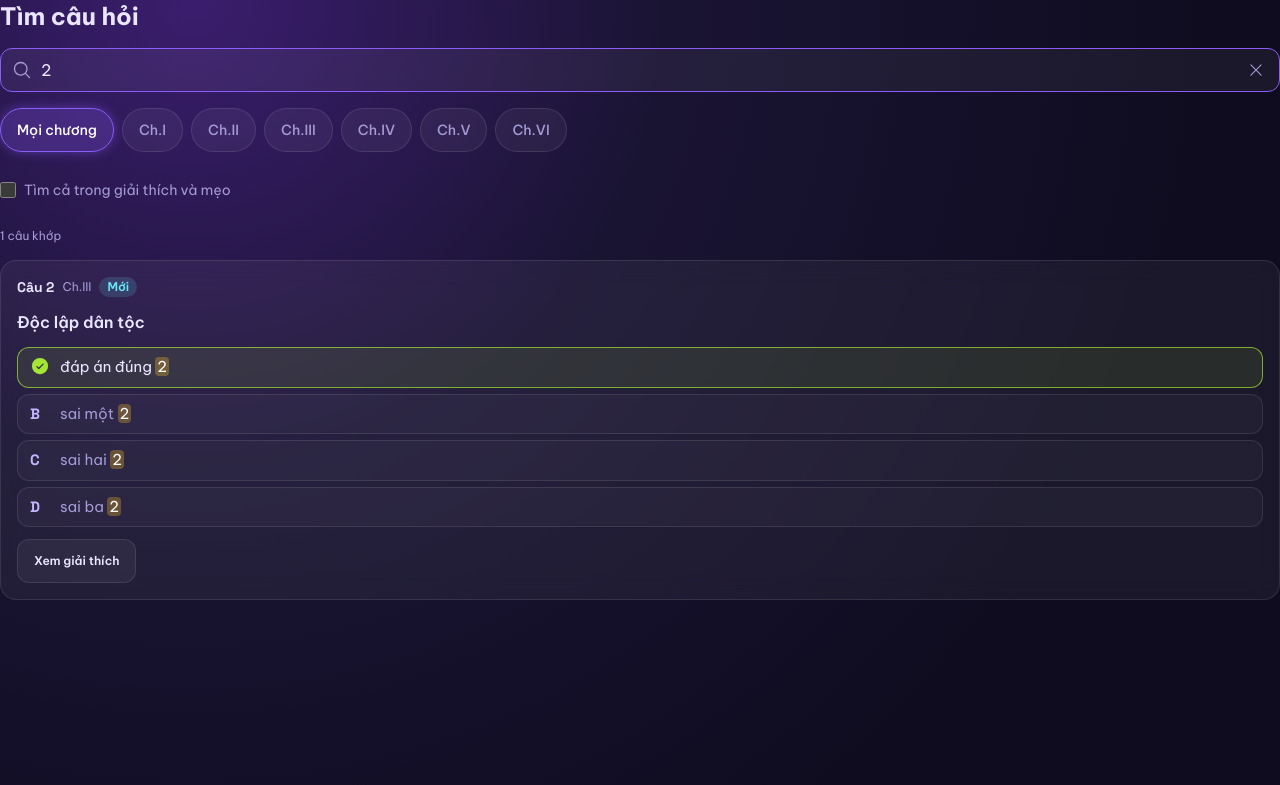
Test: bật tìm trong giải thích và lọc chương
This screenshot has width=1280, height=785.
Replace the text in the search field named "Từ khóa tìm kiếm" with "đoàn kết" at [640, 70], box [0,48,1279,92]
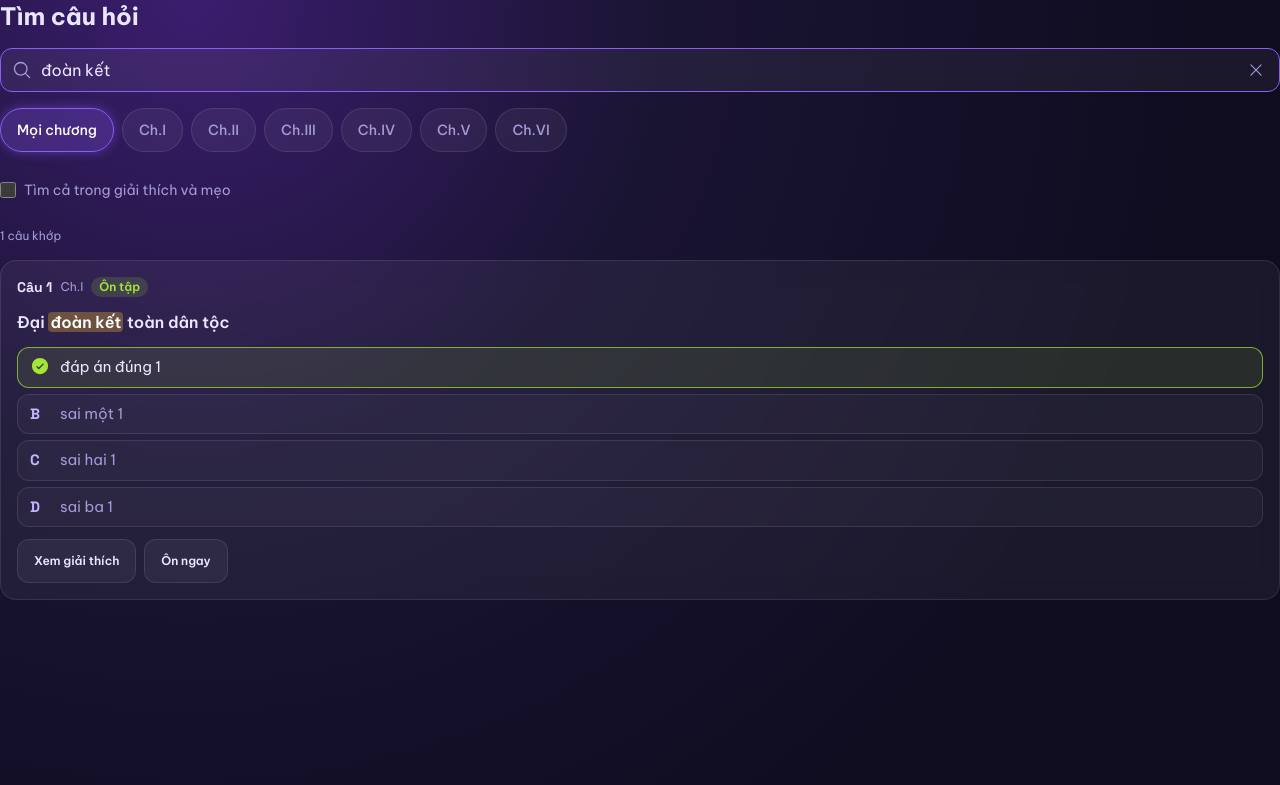
Click the checkbox labelled "Tìm cả trong giải thích và mẹo".
click(8, 190)  # box [0,182,16,198]
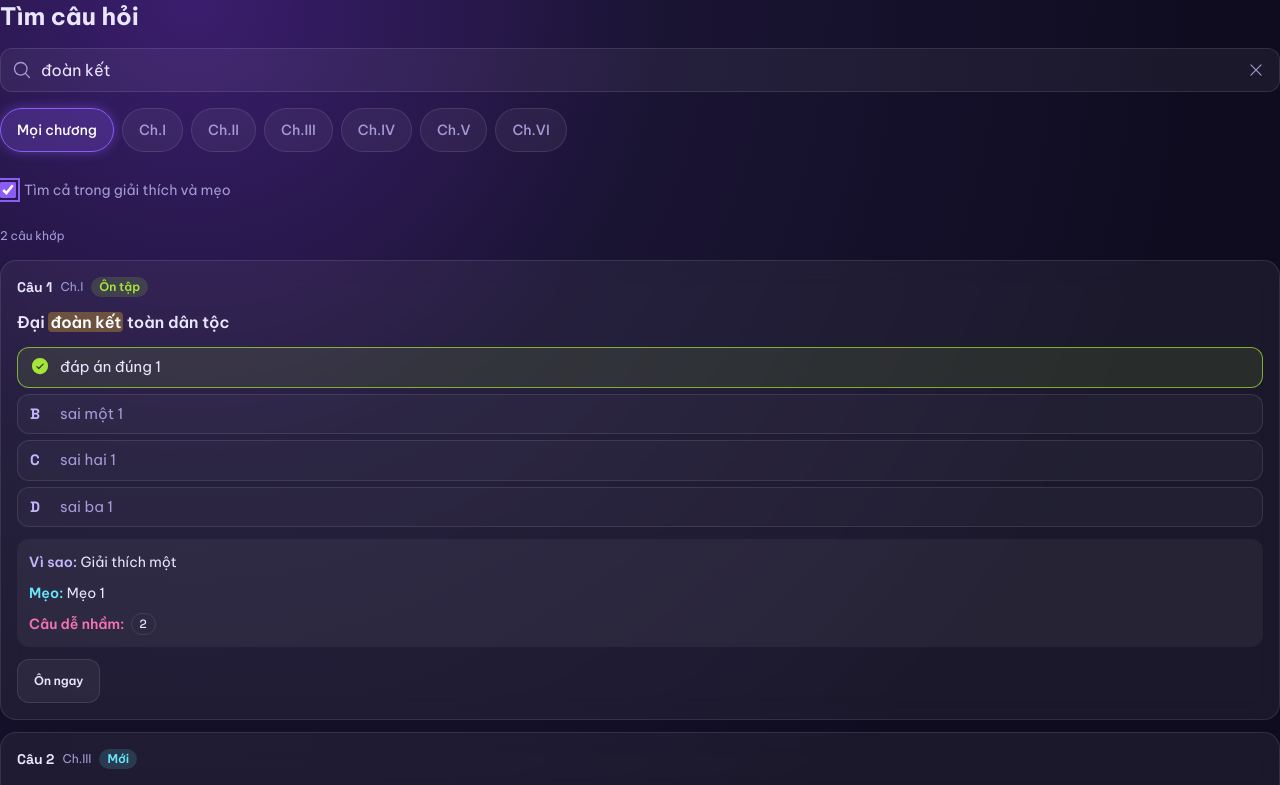
Now the text "2 câu khớp" is shown, box [0,228,65,243]
Click the button "Ch.III".
click(298, 130)  # box [264,108,333,152]
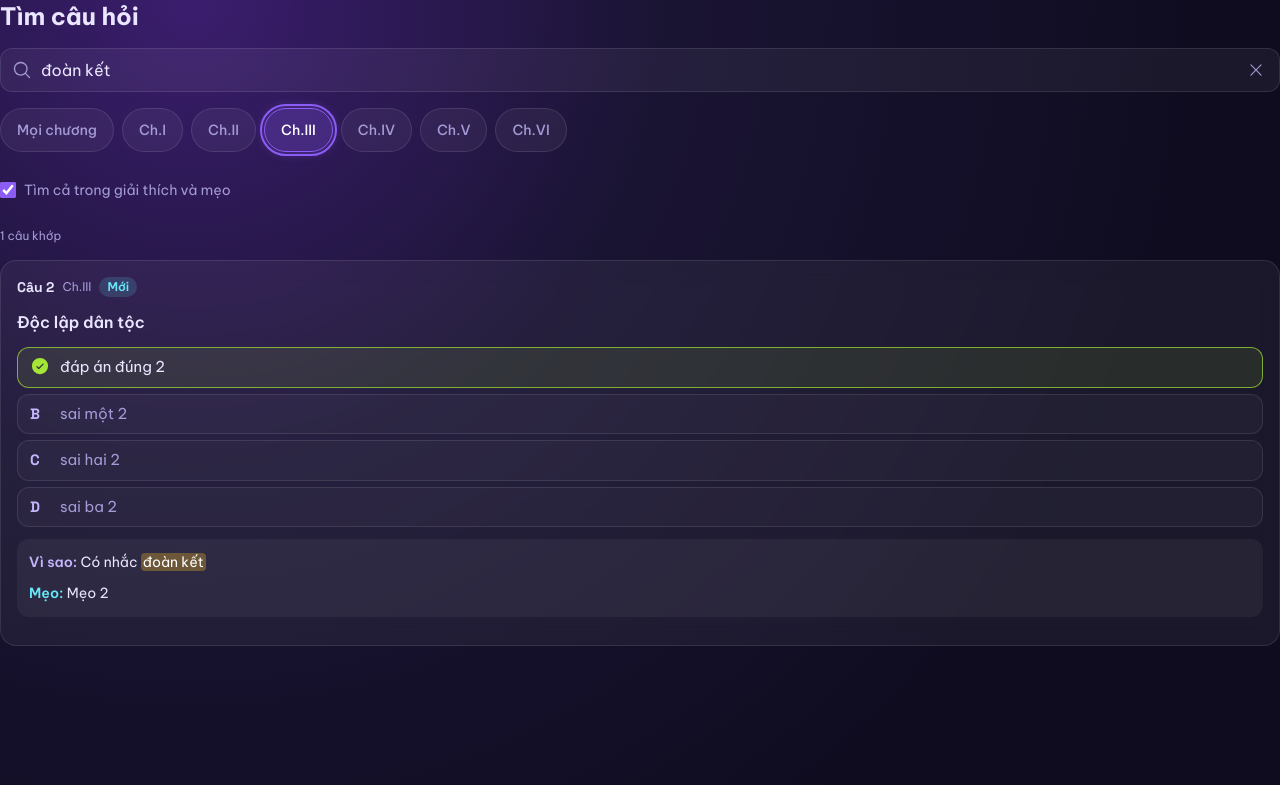
Now the text "1 câu khớp" is shown, box [0,228,61,243]
